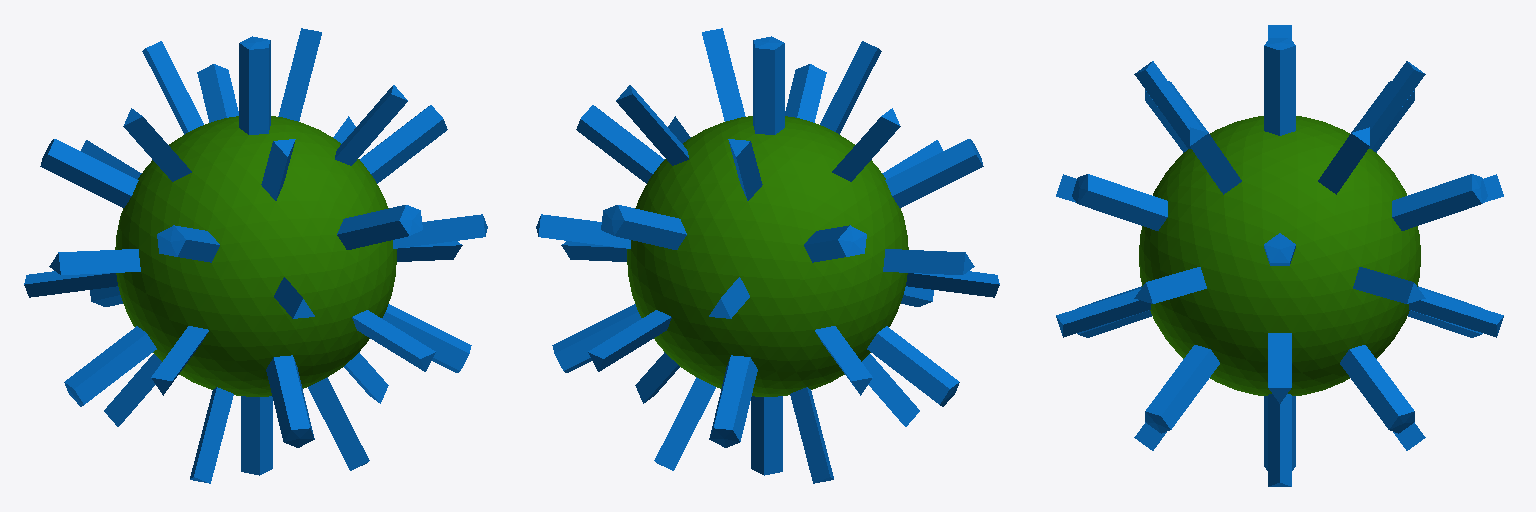
The model's file is virus_sphere.obj.
3 views of the same model, side by side, from view 1: azimuth 30°, elevation 25°; view 2: azimuth 150°, elevation 25°; view 3: azimuth 270°, elevation 25° (orthographic).
Parts seen in each view (by area): view 1: Virus_Sphere_Icosphere; view 2: Virus_Sphere_Icosphere; view 3: Virus_Sphere_Icosphere.
Part boxes in pixels (x1,y1,x2,y2): Virus_Sphere_Icosphere: (24, 28, 487, 483); Virus_Sphere_Icosphere: (536, 28, 999, 483); Virus_Sphere_Icosphere: (1056, 25, 1503, 486).
Size of the model in its own units: 4.92 by 5 by 4.76.